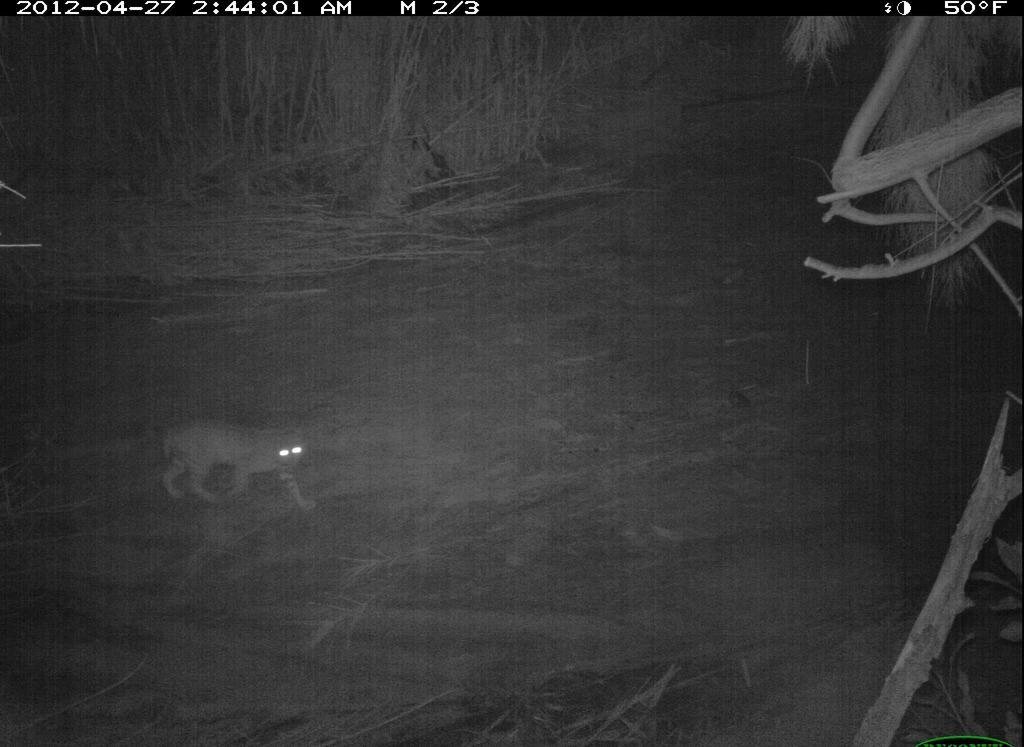bobcat: (143, 402, 346, 542)
